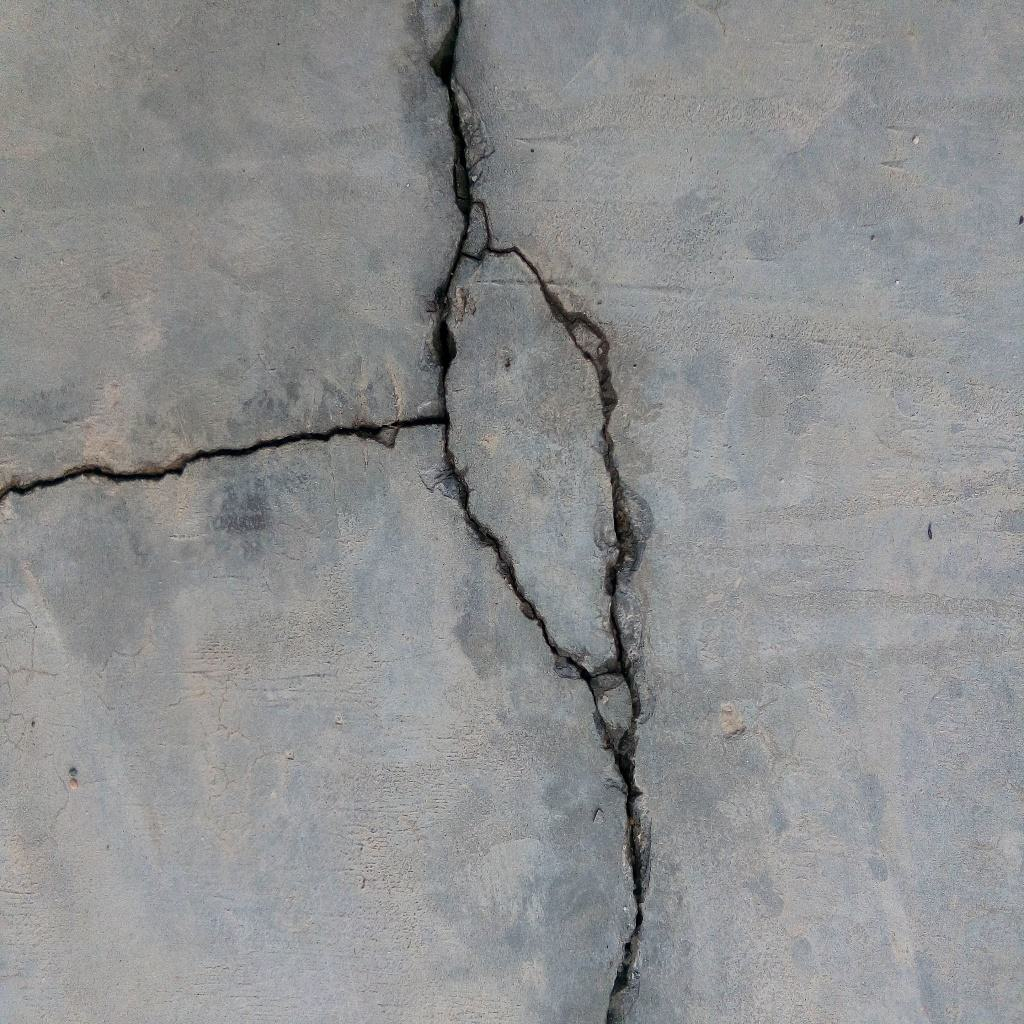Crack: (424, 1, 653, 1024), (1, 414, 446, 499)
